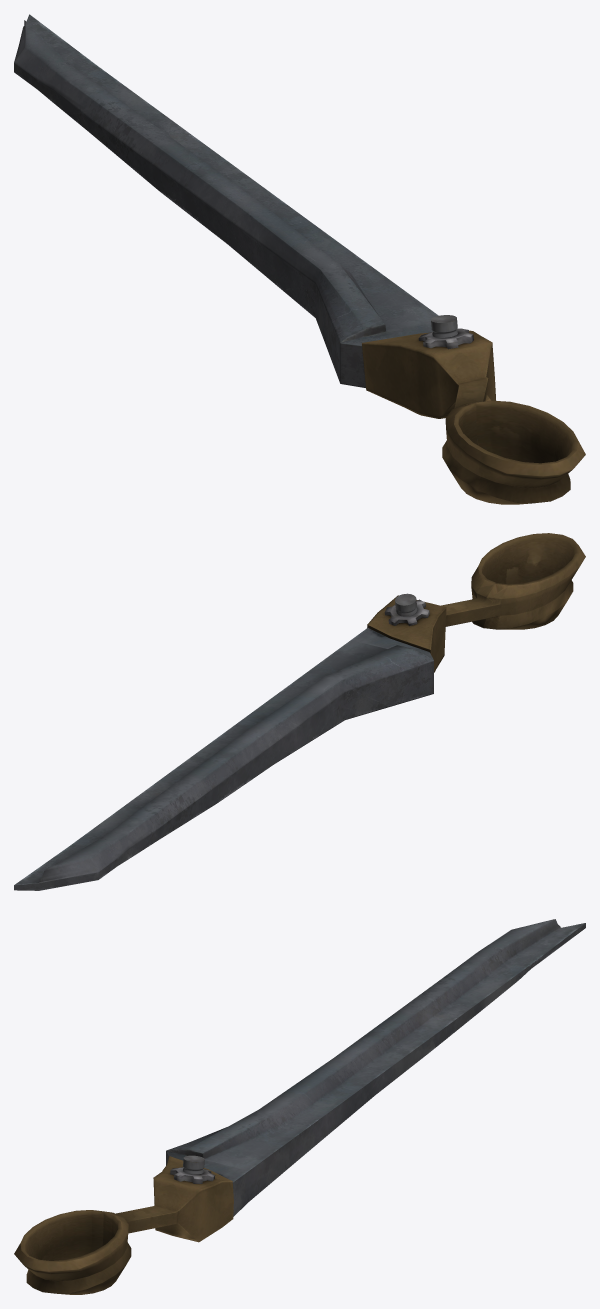
Rendered from Scissor Blade.fbx.
3 renders of one model, top to bottom at view 1: azimuth 30°, elevation 25°; view 2: azimuth 150°, elevation 25°; view 3: azimuth 330°, elevation 25°, orthographic. The views are drawn at different scales.
Parts seen in each view (by area): view 1: Blade_scissorsblade_0, hand_scissorsblade_0, gear2_scissorsblade_0; view 2: Blade_scissorsblade_0, hand_scissorsblade_0, gear2_scissorsblade_0; view 3: Blade_scissorsblade_0, hand_scissorsblade_0.
Part boxes in pixels (x1,y1,x2,y2): Blade_scissorsblade_0: [14, 14, 438, 387]; hand_scissorsblade_0: [362, 330, 585, 504]; gear2_scissorsblade_0: [418, 328, 473, 349]; Blade_scissorsblade_0: [14, 628, 433, 890]; hand_scissorsblade_0: [367, 533, 585, 672]; gear2_scissorsblade_0: [384, 599, 429, 625]; Blade_scissorsblade_0: [166, 919, 585, 1216]; hand_scissorsblade_0: [14, 1156, 233, 1294].
Size of the model in its own units: 220 by 148 by 1887.
1 material, 1 textured.
